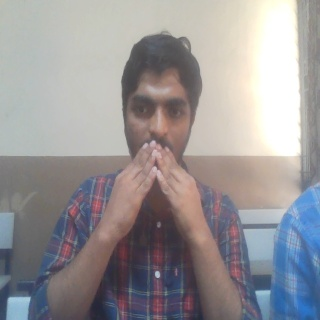Thank You: (103, 141, 211, 252)
